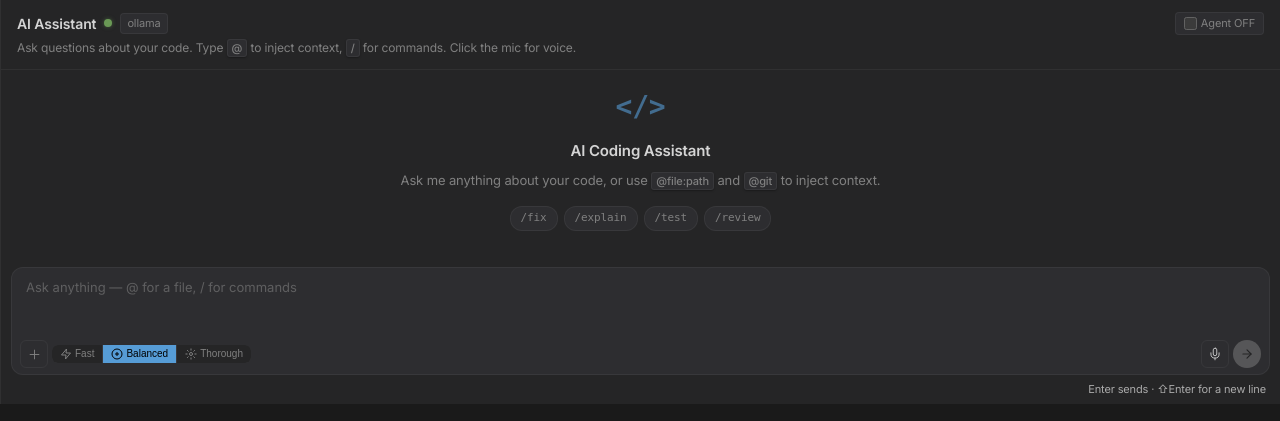
Scenario: AIChat streaming render frequency › keeps chunks that had not been published when the user stops
This screenshot has width=1280, height=421.
Type "hello" into the text box with placeholder "Ask anything — @ for a file, / for commands". click: (640, 302)
box: [12, 268, 1269, 336]
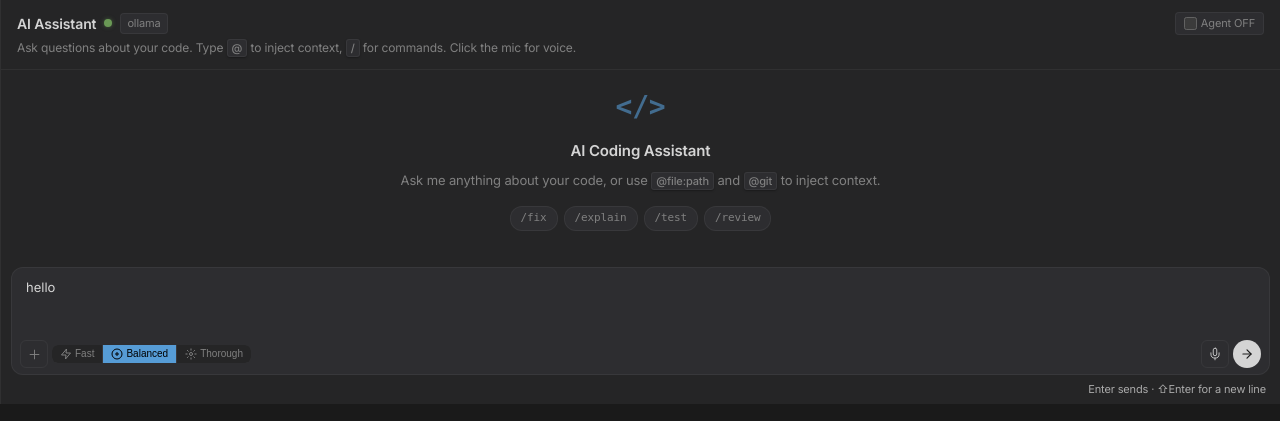
Press Enter in the text box with placeholder "Ask anything — @ for a file, / for commands", box [12, 268, 1269, 336]
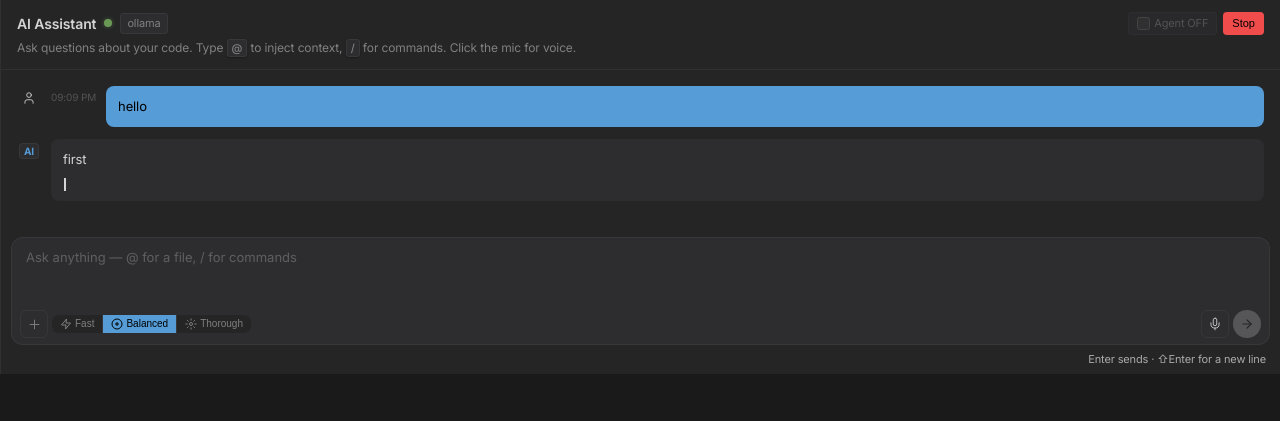
Click the button titled "Stop". click: (1244, 23)
box: [1223, 12, 1264, 34]
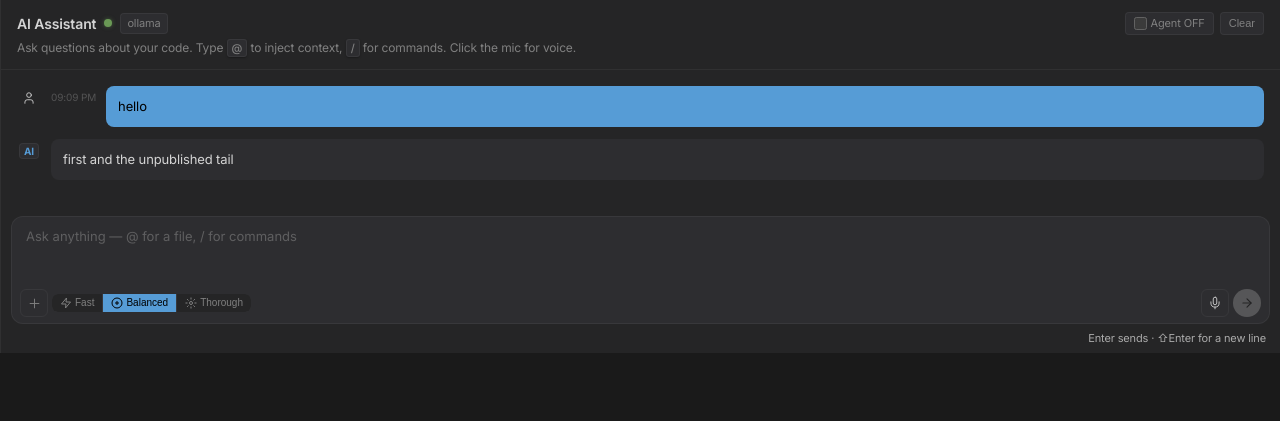
Check: the text "and the unpublished tail" is shown, box [63, 151, 233, 167]
